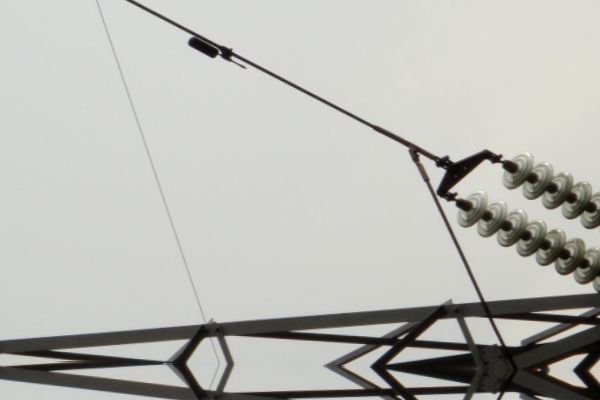damper_defect: (186, 34, 250, 72)
